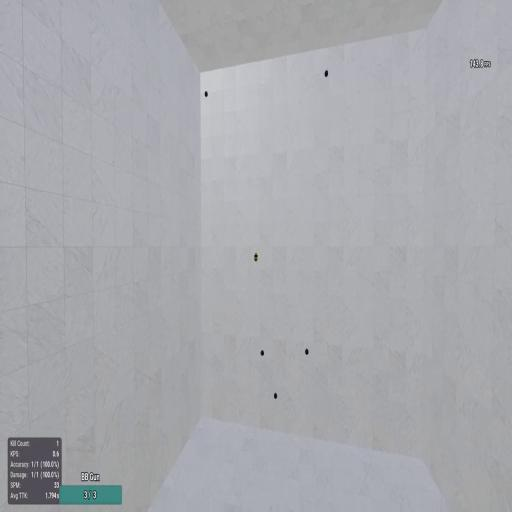Crosshair: (254, 252, 258, 260)
Target: (305, 346, 309, 356), (274, 391, 278, 400), (260, 350, 265, 356), (204, 90, 208, 97), (254, 256, 258, 262), (325, 70, 328, 77)
